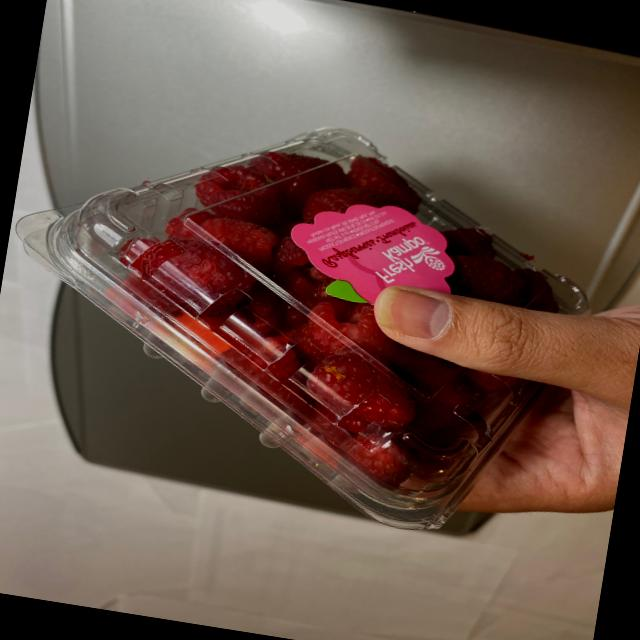raspberries: (74, 124, 544, 506)
